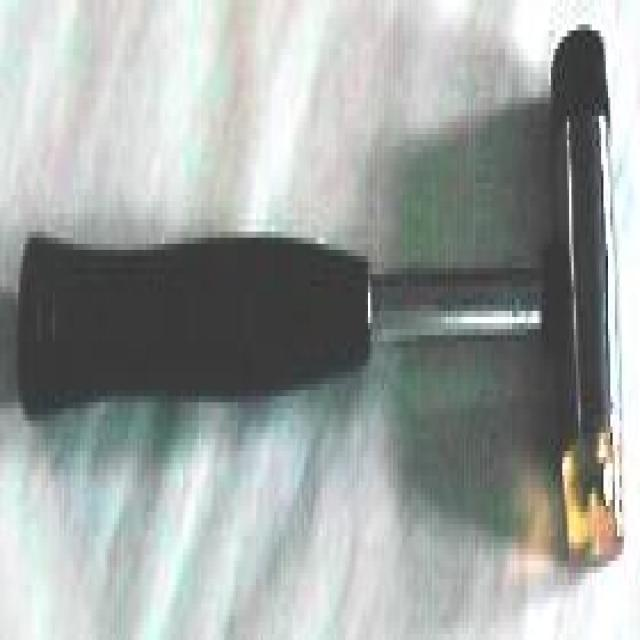hammer: (9, 2, 636, 592)
